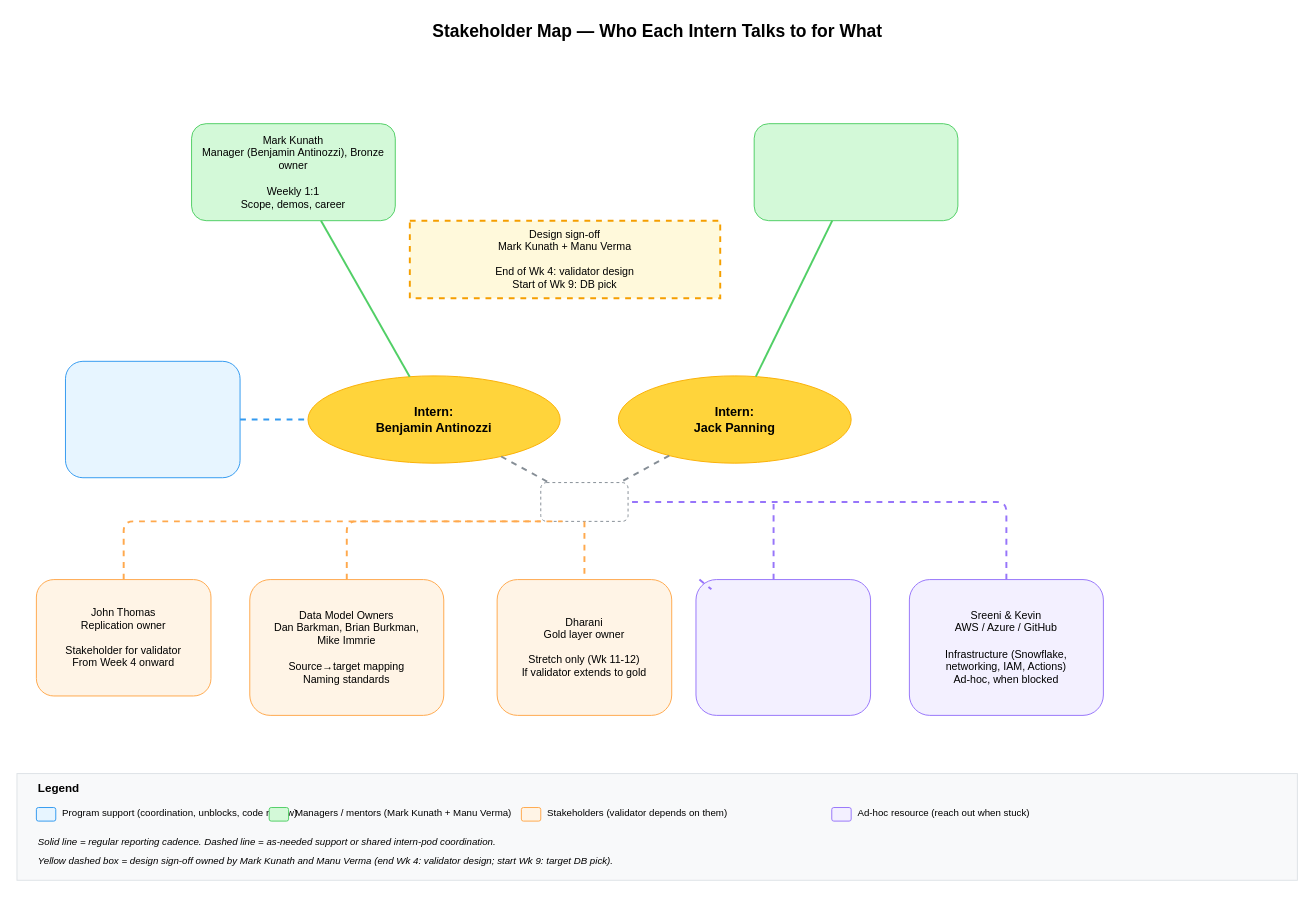
This 1314x897 diagram has some shape labels left out. Here are the shapes that lost their labels. From the top down, the box of each, then its label:
(753, 123, 958, 221): Manu Verma Manager (Jack Panning), Silver owner Weekly 1:1 Scope, demos, career
(65, 360, 240, 478): Spandana Project support Code review, unblocks Execution coordination
(540, 482, 628, 521): Intern pod
(695, 579, 871, 715): Dean Senior developer Code review, technical questions Ad-hoc, when stuck
